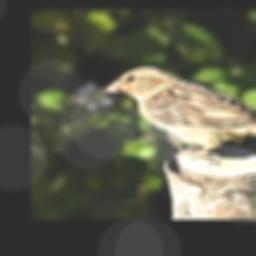Sparrow: (104, 66, 256, 156)
